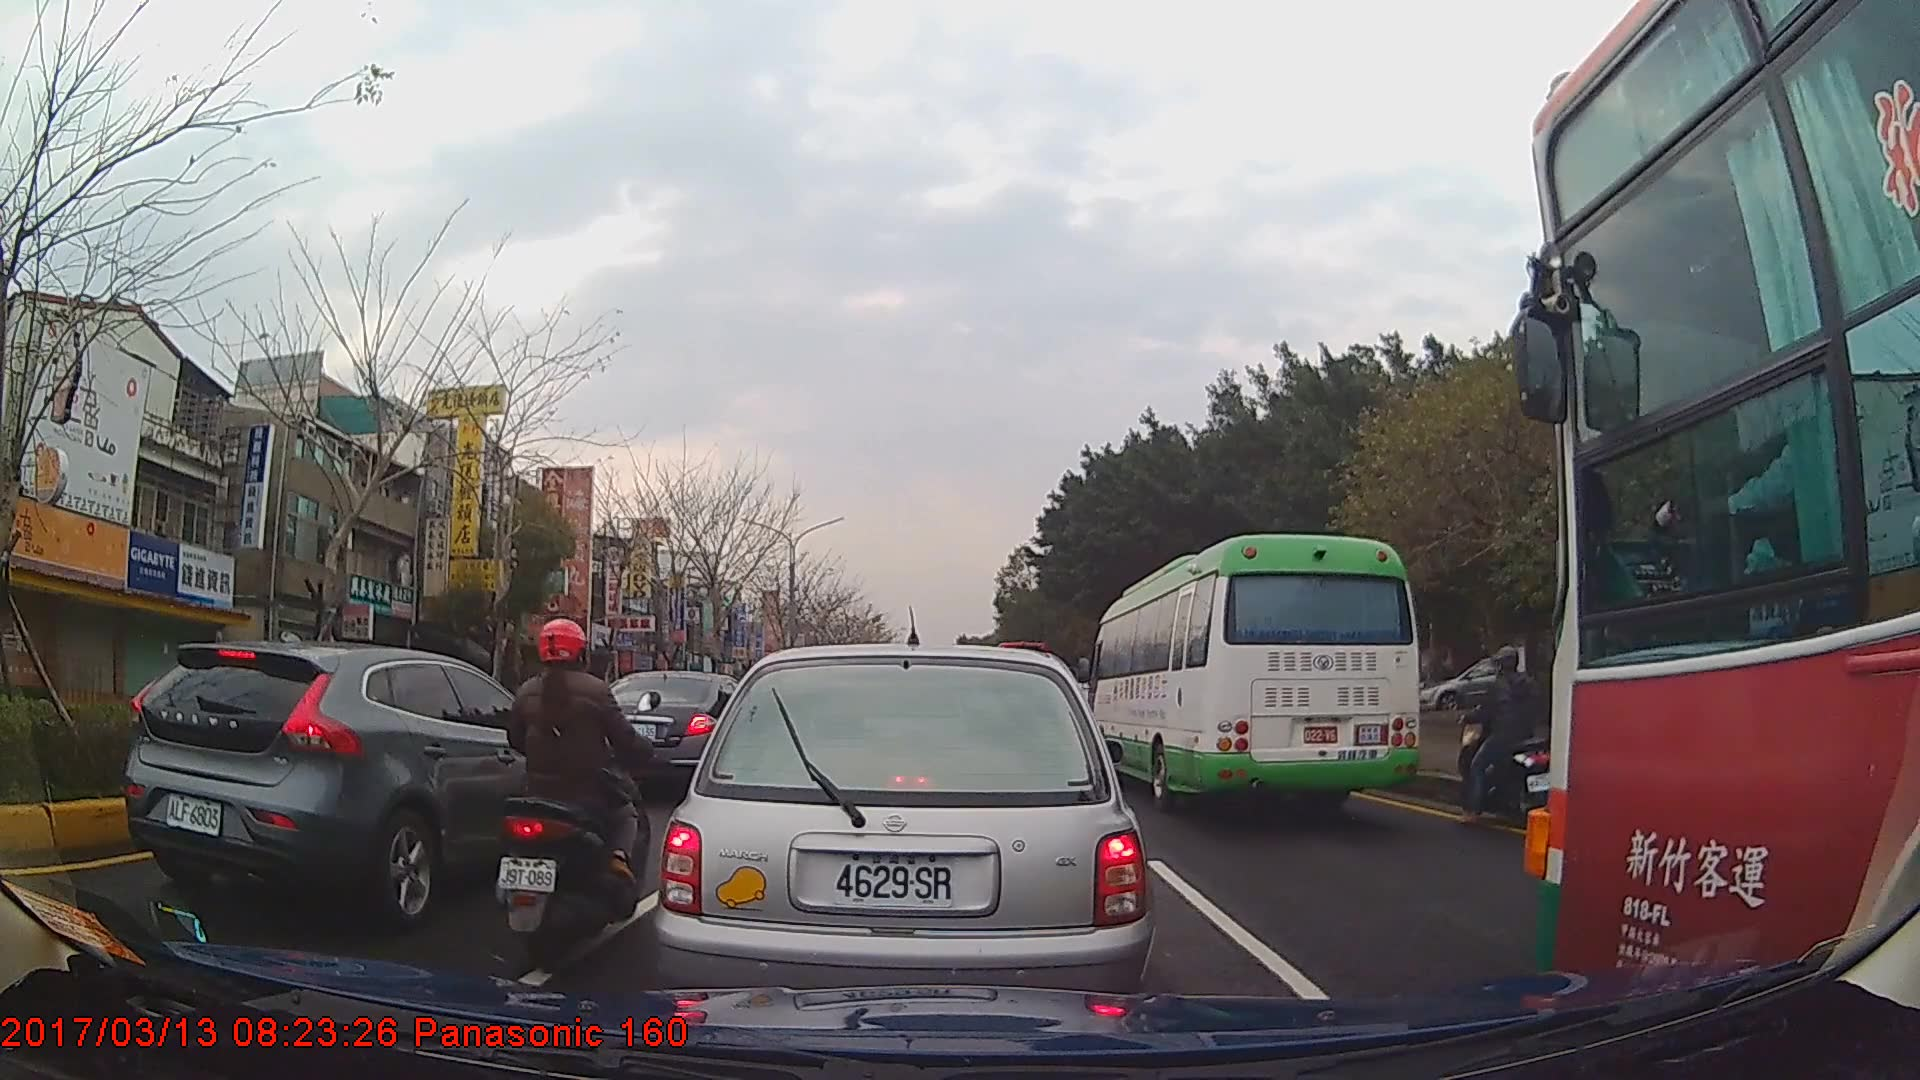rider: (495, 617, 665, 954), (1457, 645, 1558, 828)
vehicle: (1511, 0, 1919, 1046), (655, 641, 1157, 1037), (122, 643, 599, 919), (1087, 531, 1419, 813), (588, 669, 757, 794)
